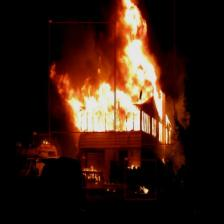fire: (115, 0, 175, 144), (48, 22, 114, 133), (125, 160, 156, 200), (82, 158, 102, 187), (34, 134, 52, 148)
